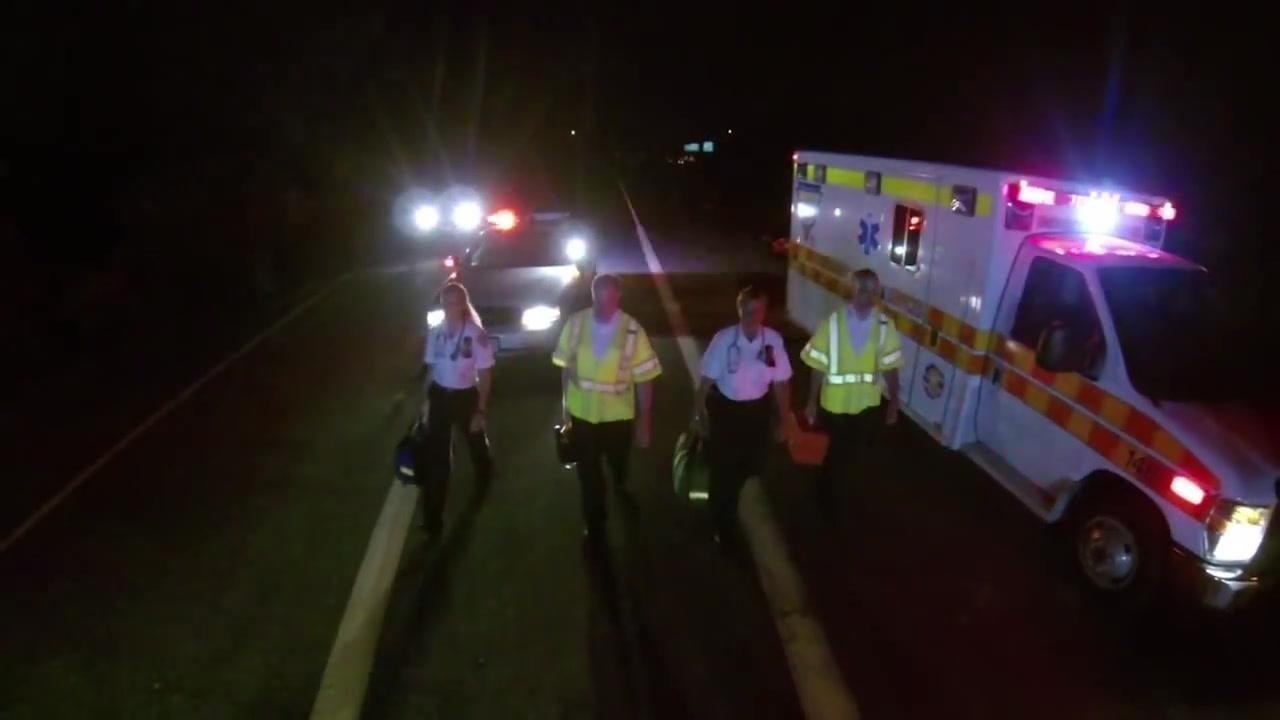vest: (542, 306, 663, 424), (790, 304, 903, 414)
